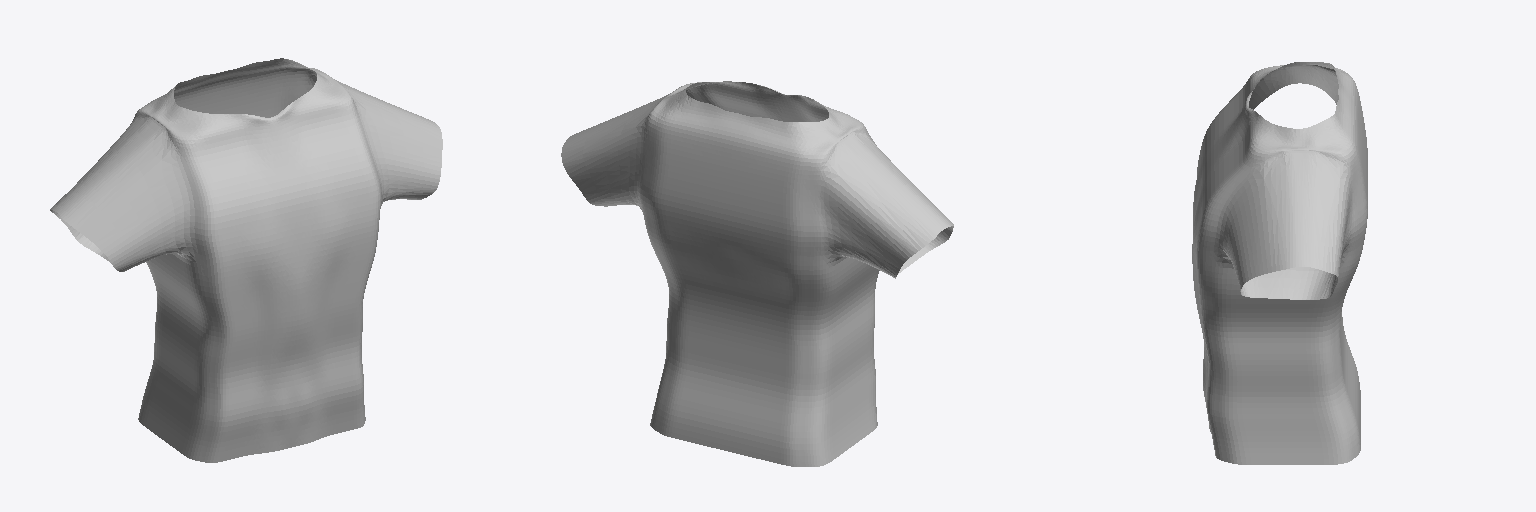
The model's file is pull.obj.
The picture shows the model from 3 angles: view 1: azimuth 30°, elevation 25°; view 2: azimuth 150°, elevation 25°; view 3: azimuth 270°, elevation 25°; orthographic projection.
Visible parts, largest first — view 1: Cube_Cube.001; view 2: Cube_Cube.001; view 3: Cube_Cube.001.
Boxes of the visible parts, x1,y1,x2,y2 form: Cube_Cube.001: [50, 58, 442, 462]; Cube_Cube.001: [561, 81, 953, 466]; Cube_Cube.001: [1192, 62, 1367, 464].
Bounding box in the file's own units: 0.7514 × 0.6318 × 0.3031.